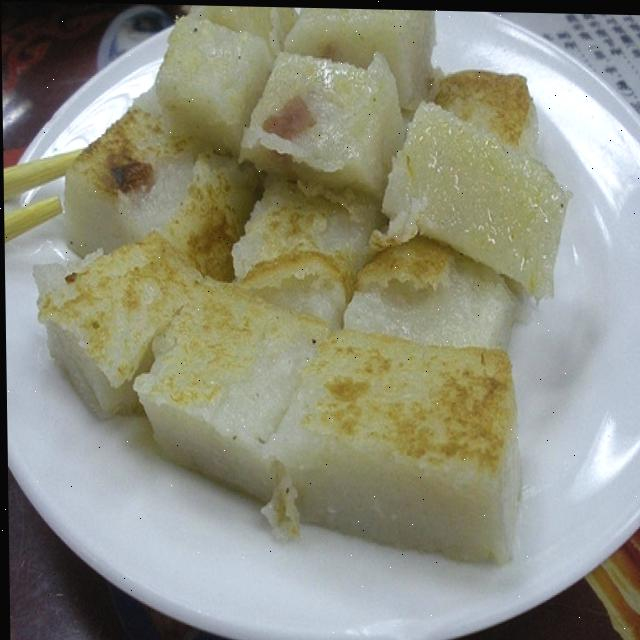蛋糕甜品: (34, 1, 602, 565)
